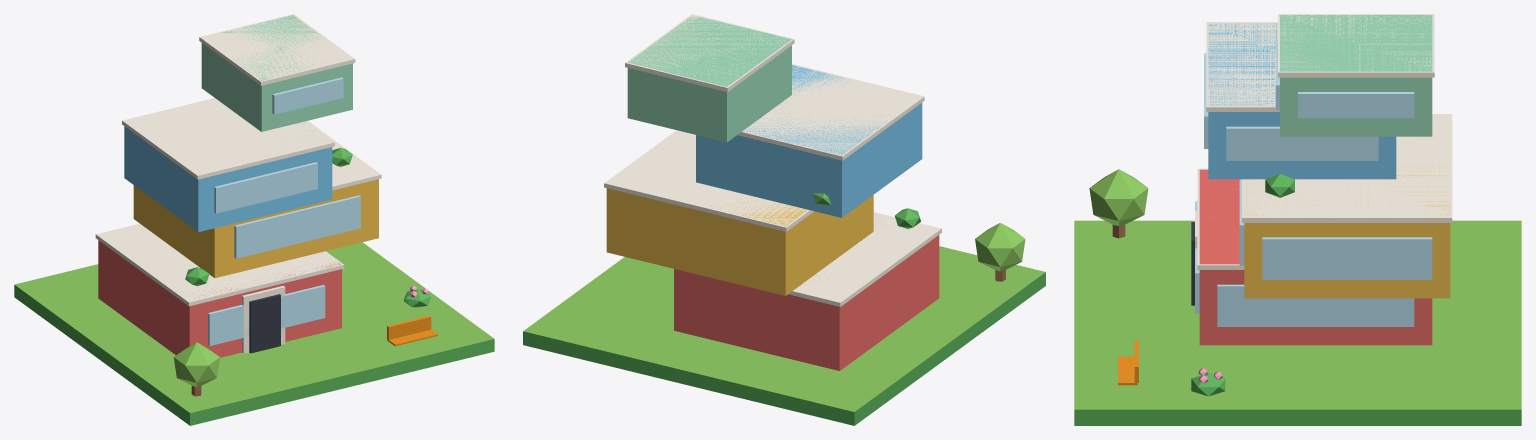
File: office_creative.glb
3 renders of one model, left to right at view 1: azimuth 30°, elevation 25°; view 2: azimuth 150°, elevation 25°; view 3: azimuth 270°, elevation 25°, orthographic. The views are drawn at different scales.
Parts seen in each view (by area): view 1: office_creative; view 2: office_creative; view 3: office_creative.
Part boxes in pixels (bbox=[...]): office_creative: bbox=[14, 14, 494, 425]; office_creative: bbox=[523, 14, 1045, 425]; office_creative: bbox=[1074, 14, 1521, 425].
Bounding box in the file's own units: 1 × 0.78 × 1.
